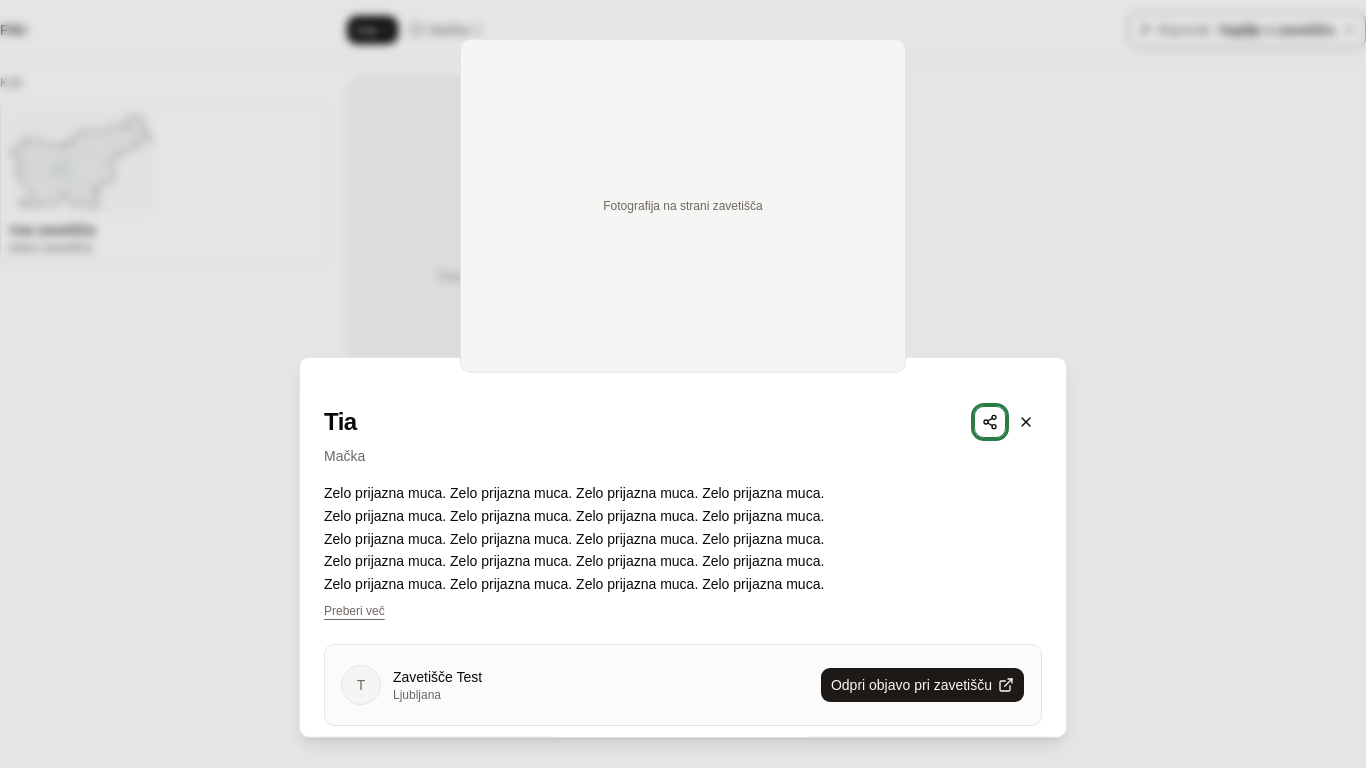
Test case: animal dialog › clamps a long description behind a read-more toggle
Expected: the text "Zelo prijazna muca" is shown, [324, 485, 824, 592]
Click the button "Preberi več".
click(354, 611)  # box [324, 603, 385, 619]
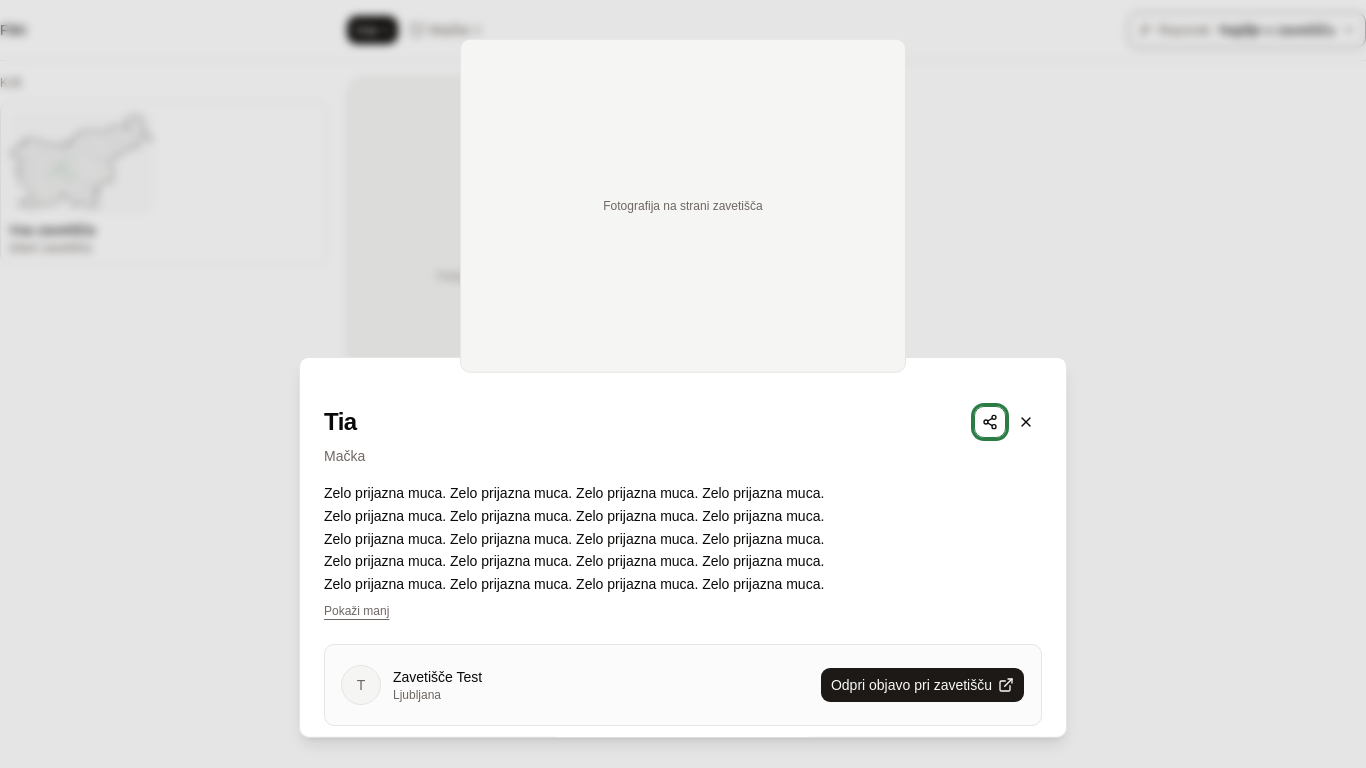
Expected: the button "Pokaži manj" is shown, [324, 603, 389, 619]
